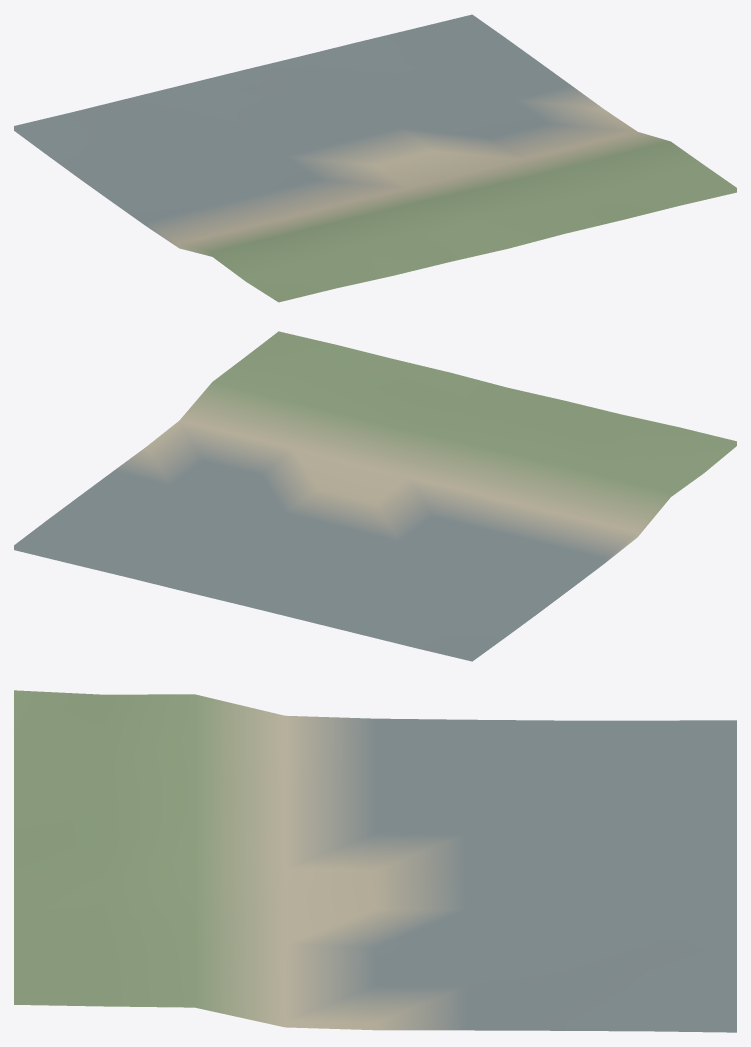
3 renders of one model, top to bottom at view 1: azimuth 30°, elevation 25°; view 2: azimuth 150°, elevation 25°; view 3: azimuth 270°, elevation 25°, orthographic. The views are drawn at different scales.
Parts seen in each view (by area): view 1: prim0; view 2: prim0; view 3: prim0.
Part boxes in pixels (bbox=[...]): prim0: bbox=[14, 14, 736, 302]; prim0: bbox=[14, 331, 736, 661]; prim0: bbox=[14, 690, 736, 1032].
Bounding box in the file's own units: 512 × 28.8 × 512.
